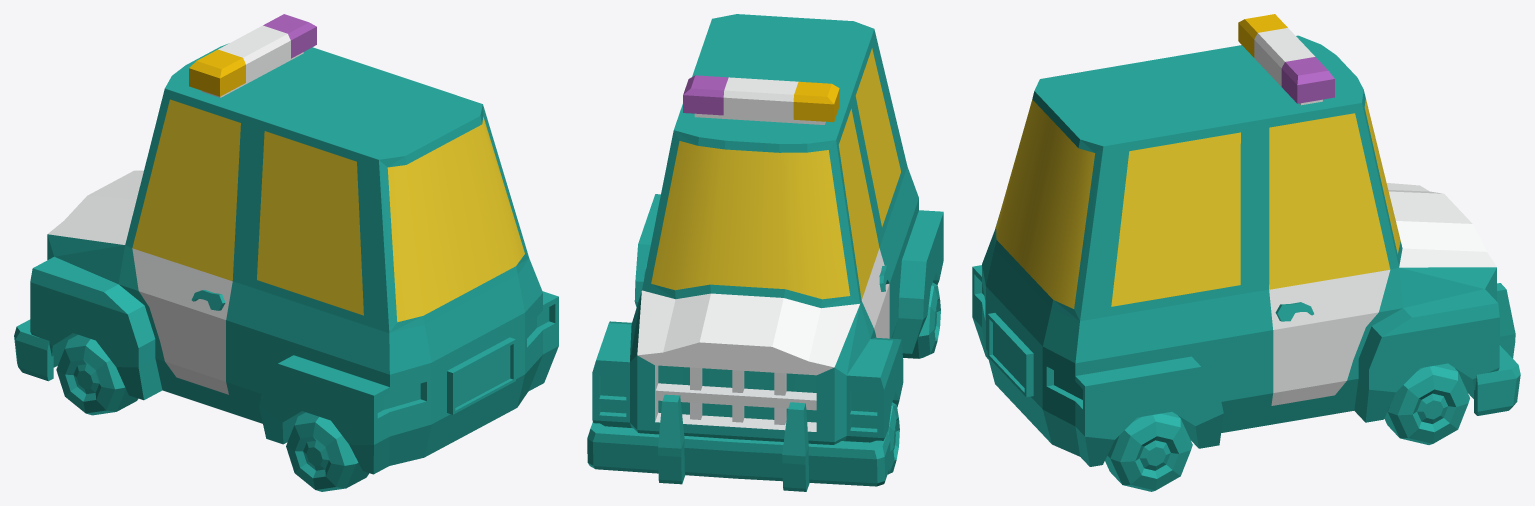
The model's file is ToyObject_100.fbx.
3 renders of one model, left to right at view 1: azimuth 30°, elevation 25°; view 2: azimuth 150°, elevation 25°; view 3: azimuth 270°, elevation 25°, orthographic. The views are drawn at different scales.
Parts seen in each view (by area): view 1: 1.016; view 2: 1.016; view 3: 1.016.
Boxes of the visible parts, x1,y1,x2,y2 form: 1.016: [14, 14, 558, 491]; 1.016: [587, 14, 943, 491]; 1.016: [972, 14, 1520, 491].
Bounding box in the file's own units: 0.1626 × 0.1407 × 0.1944.
Materials: 2 (1 with a texture image).
